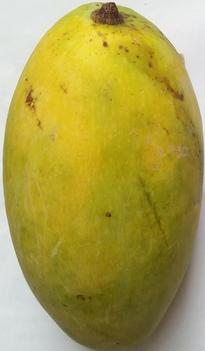PartiallyRipe: (1, 0, 205, 351)
